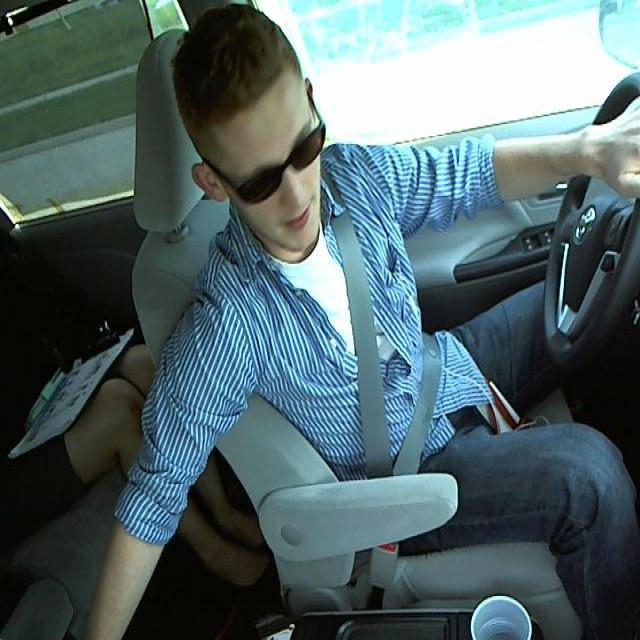seatbelt: (323, 216, 467, 476)
